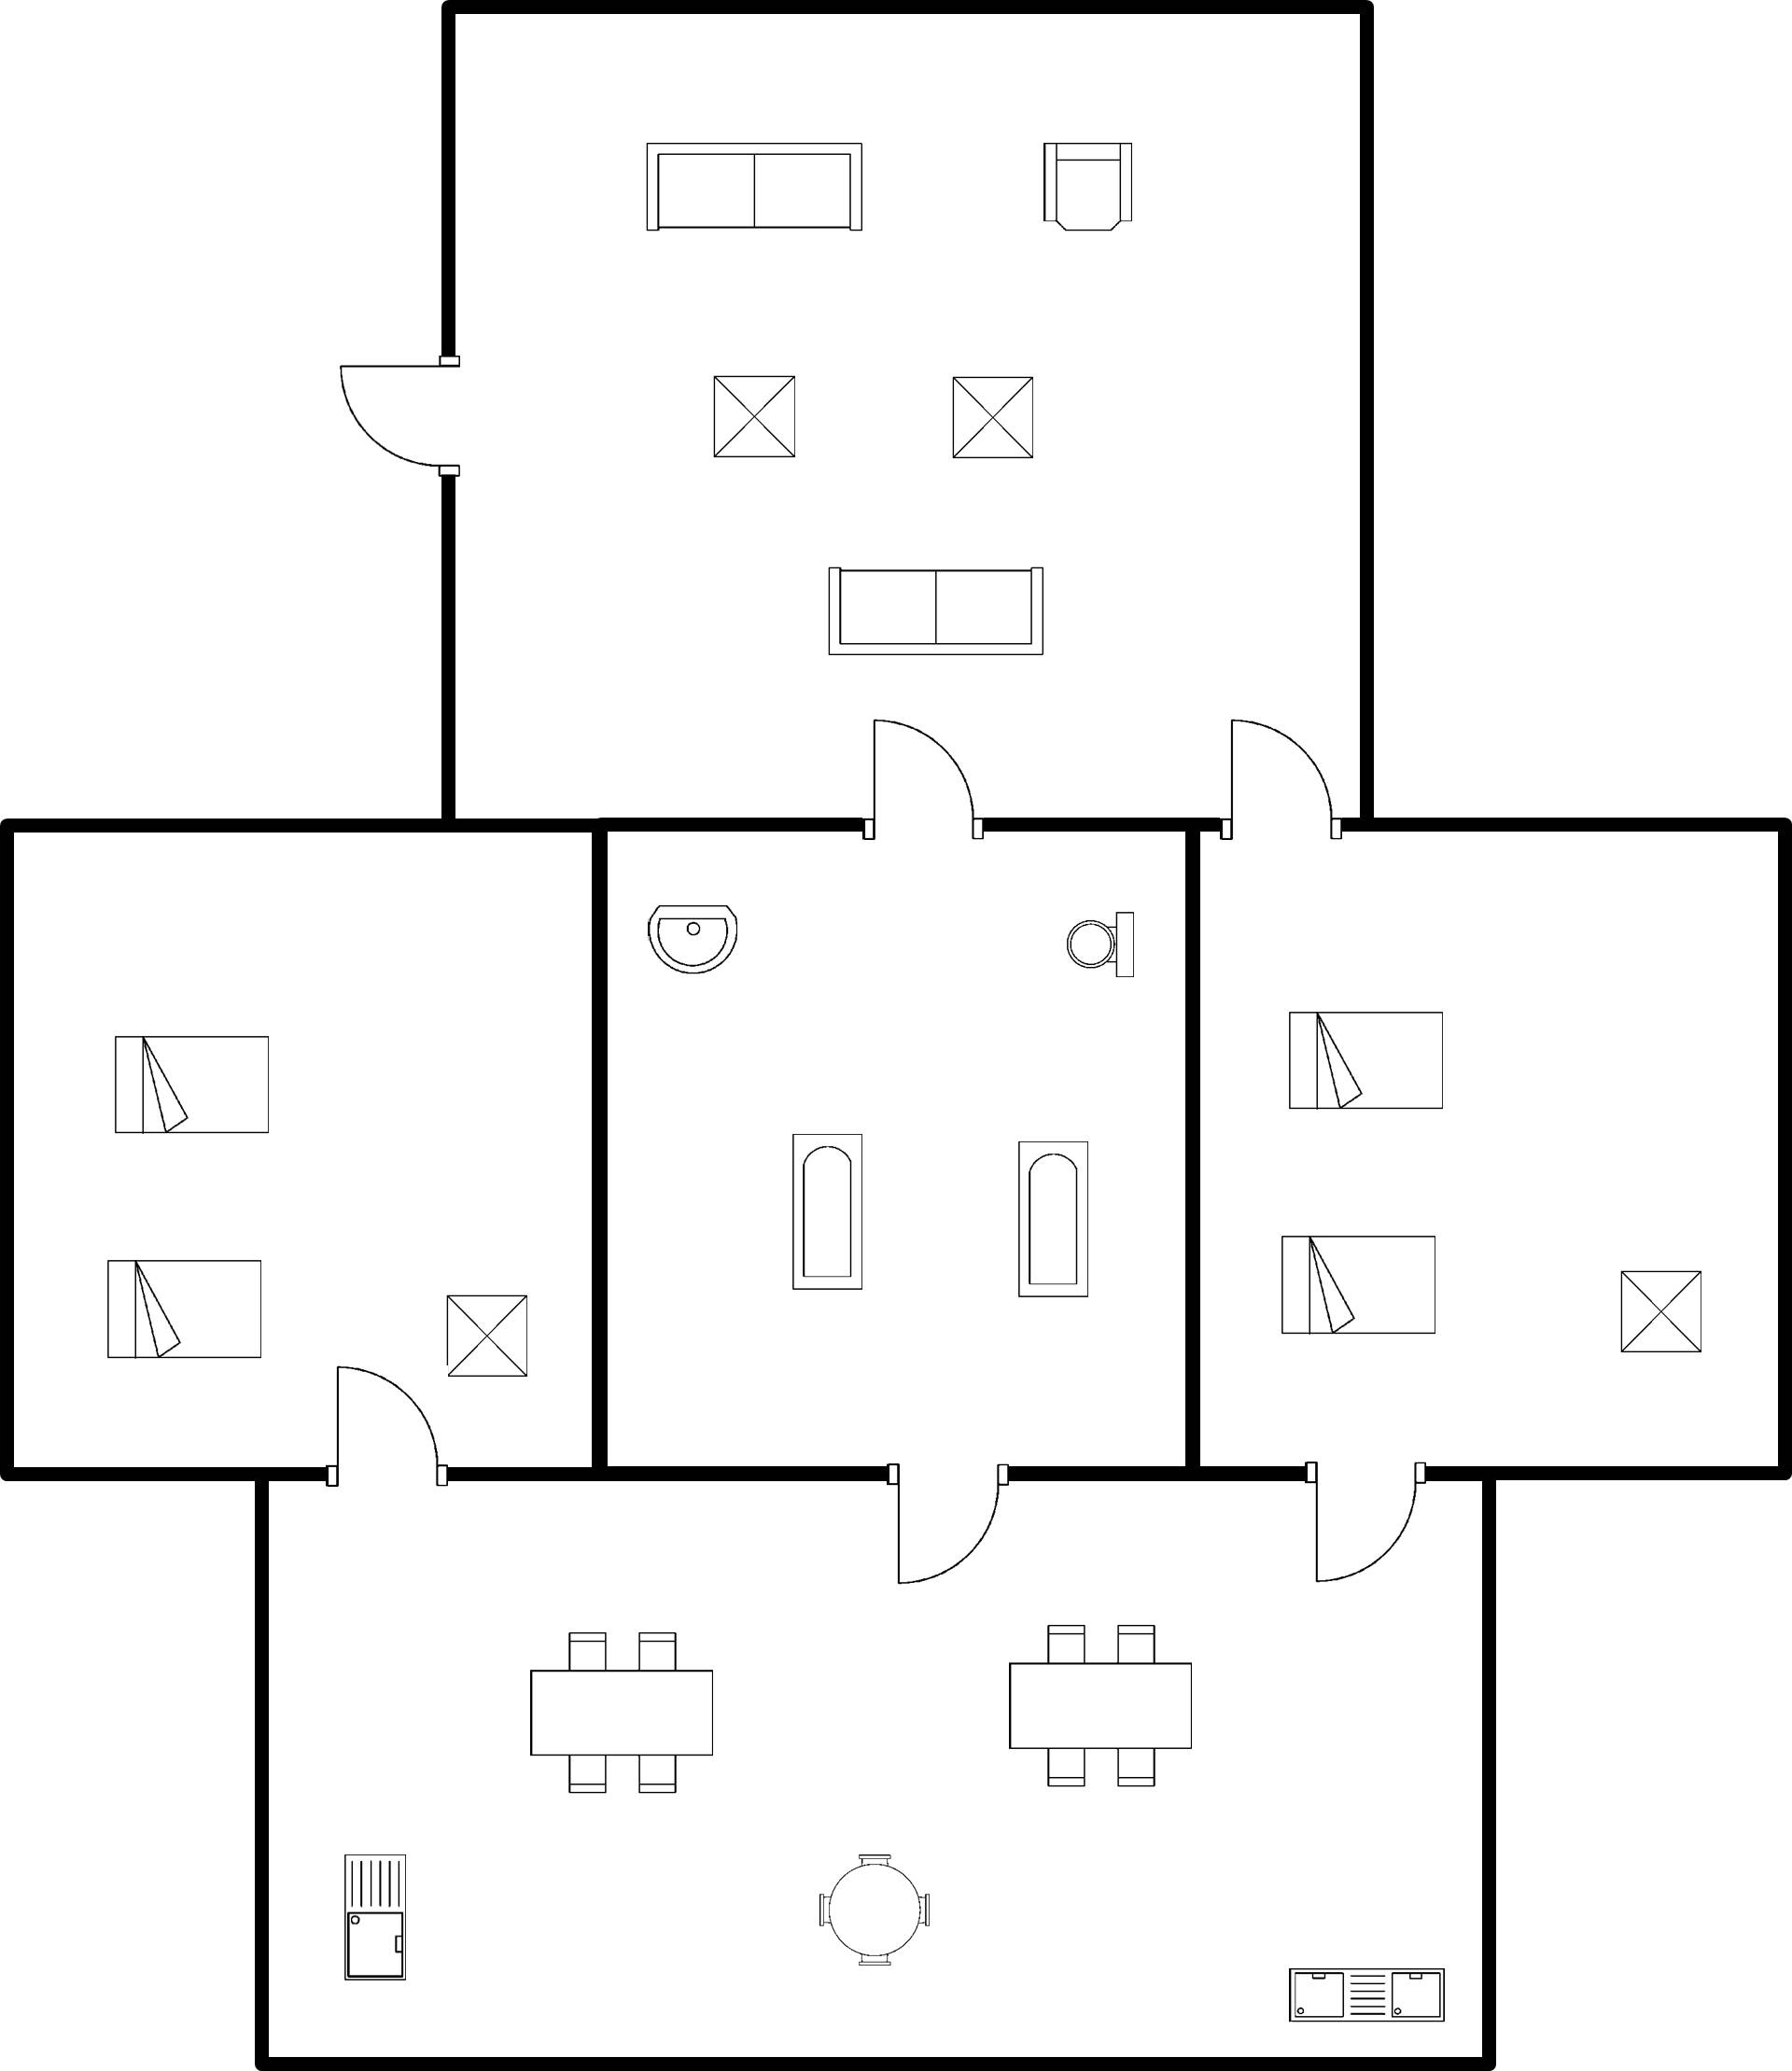armchair: (1033, 126, 1149, 247)
bed: (93, 1241, 276, 1379), (1270, 996, 1457, 1126), (95, 1023, 288, 1151), (1272, 1222, 1453, 1355)
coffee_table: (434, 1279, 550, 1394), (935, 361, 1045, 475), (1605, 1256, 1715, 1365), (700, 363, 807, 473)
dining_table: (510, 1609, 738, 1814), (994, 1609, 1217, 1799)
large_sink: (1051, 893, 1146, 990)
large_sofa: (627, 130, 871, 249), (816, 554, 1059, 674)
round_table: (805, 1842, 945, 1984)
sink: (325, 1836, 424, 1994)
small_sink: (631, 887, 753, 987)
tub: (771, 1124, 881, 1301), (999, 1126, 1102, 1307)
twin_sink: (1272, 1954, 1461, 2035)
